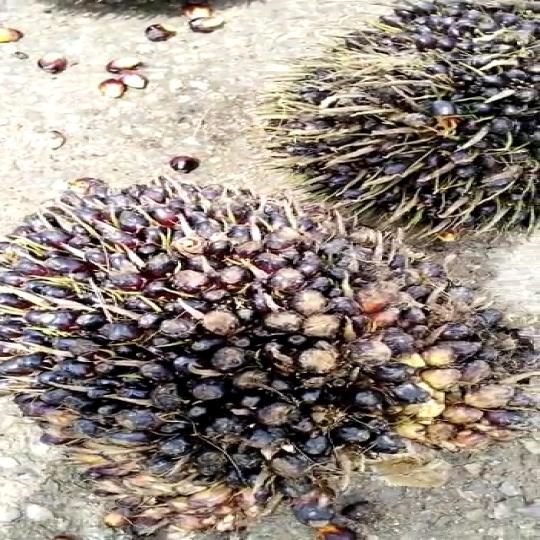mentah: (0, 159, 540, 535), (259, 1, 540, 238)
